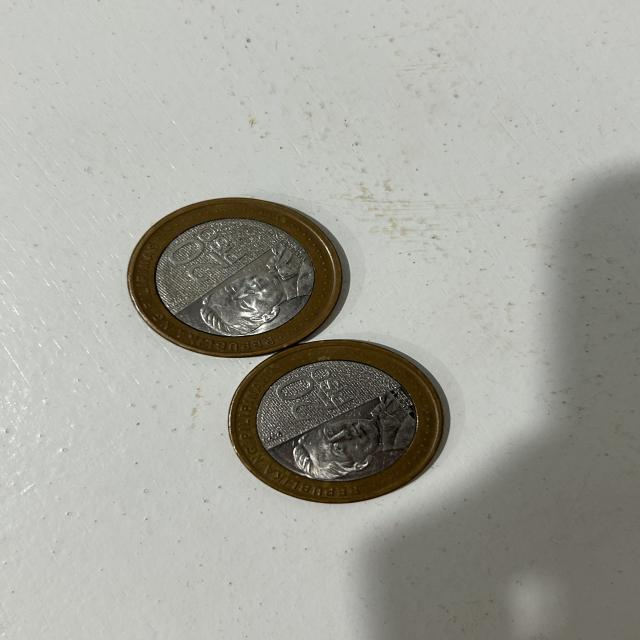20_New_Front: (165, 225, 244, 282), (272, 370, 356, 420)
